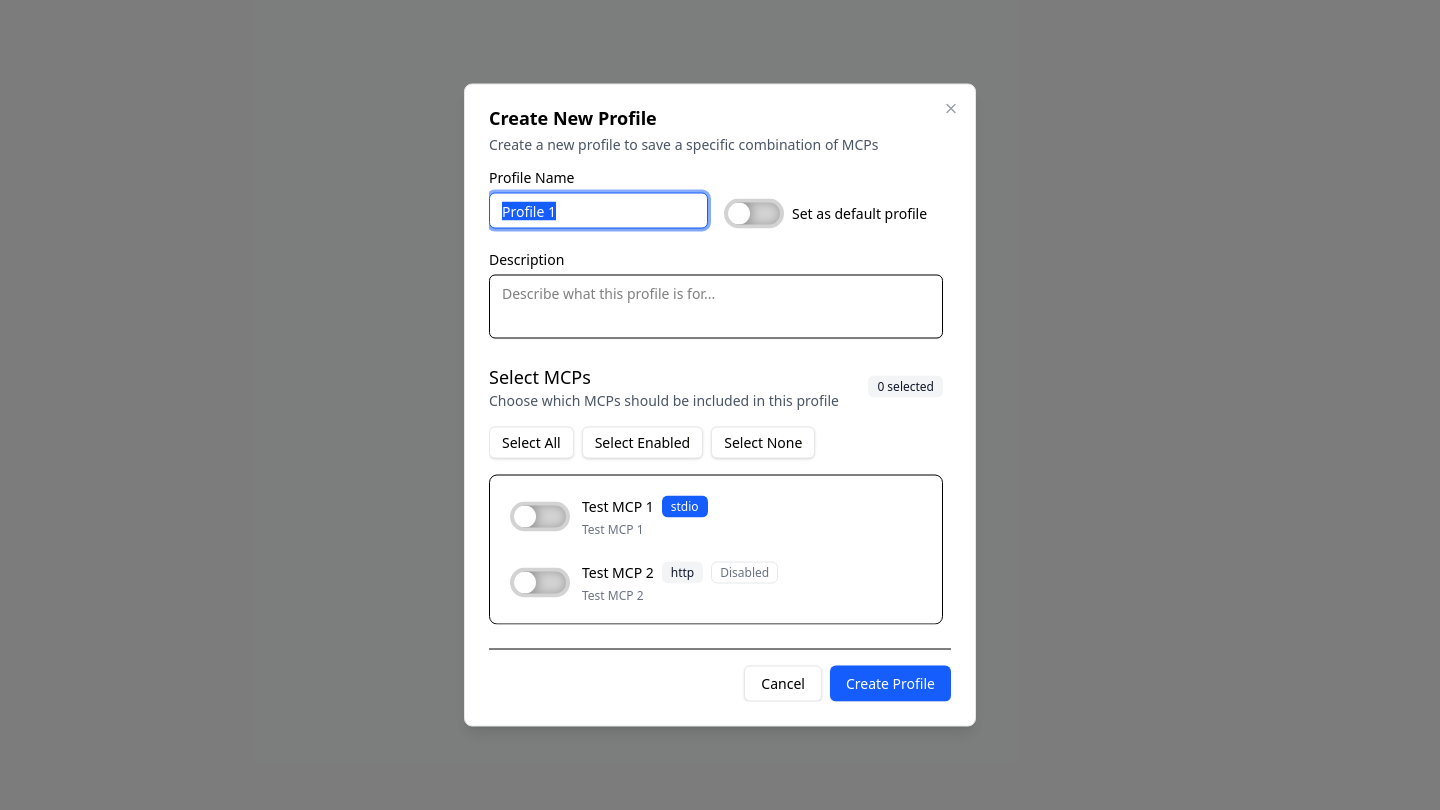
Test: ProfileDialog Component › MCP Selection › should handle Select All functionality
This screenshot has width=1440, height=810.
Step 1. Click the button "Select All" → [531, 442], box top-left (489, 426), bottom-right (574, 458)
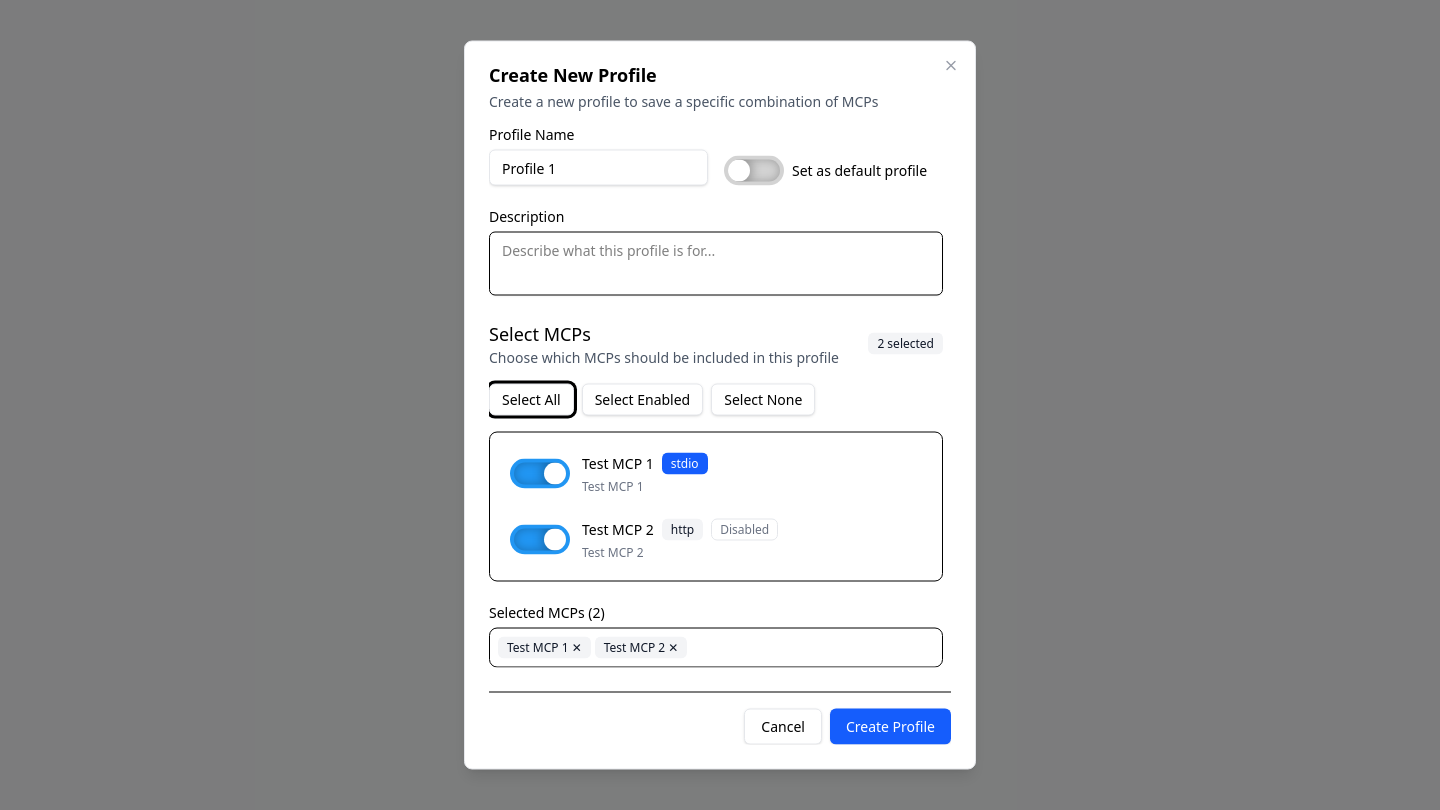
Expected: the text "2 selected" is shown, top-left (868, 332), bottom-right (943, 354)
